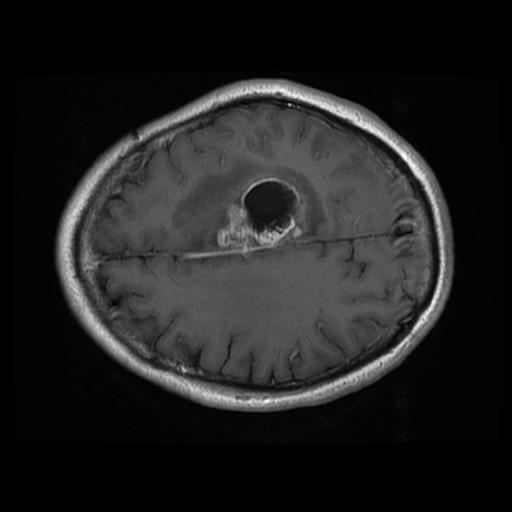glioma: (158, 157, 325, 285)
